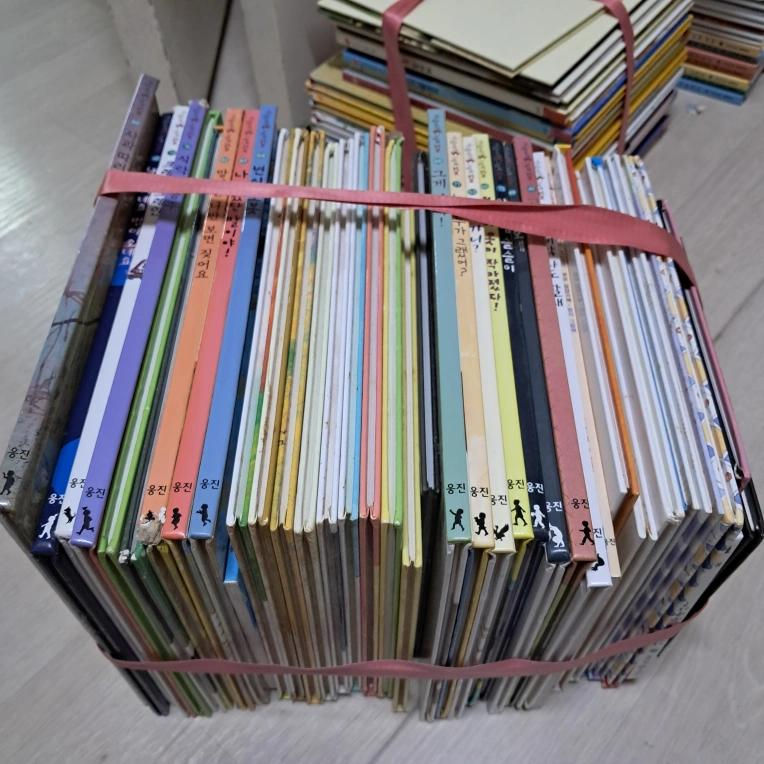book: (22, 119, 747, 704)
